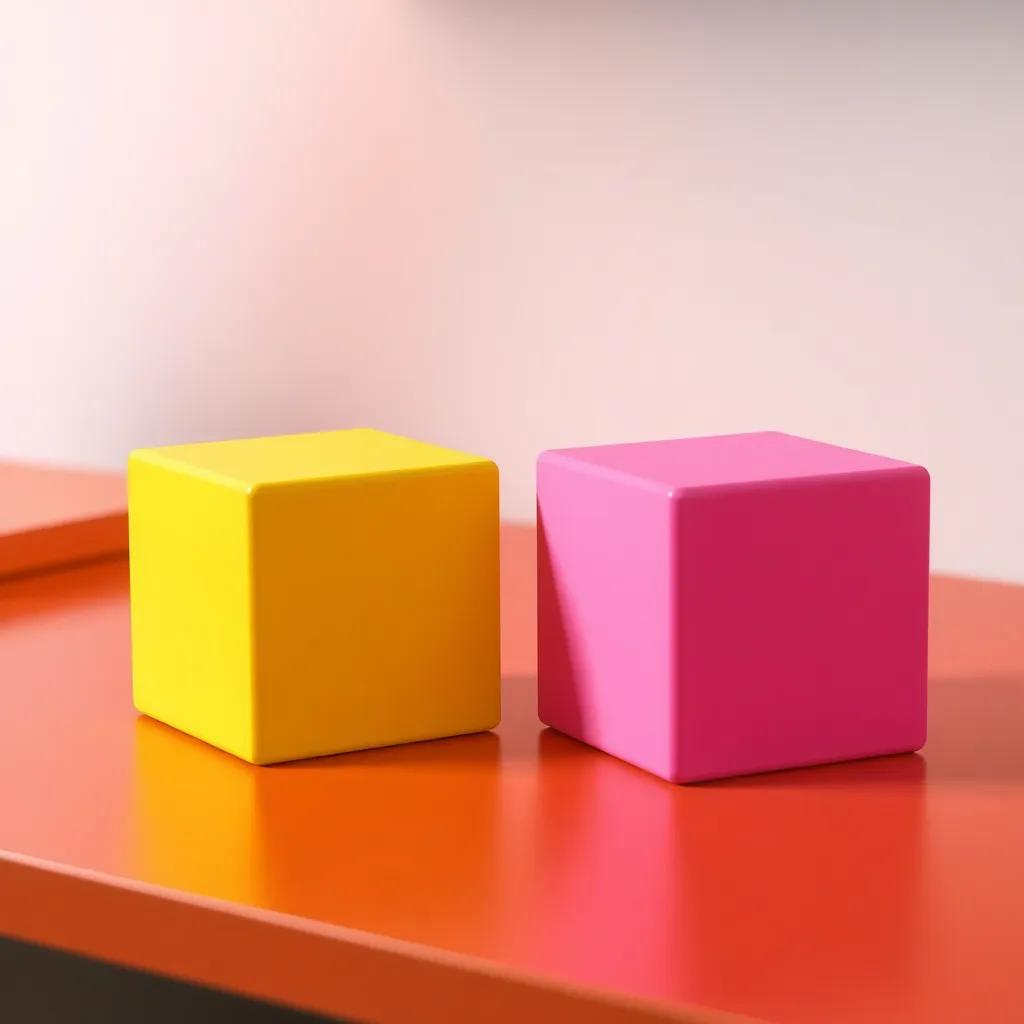cube: (534, 428, 930, 784), (125, 425, 502, 765)
